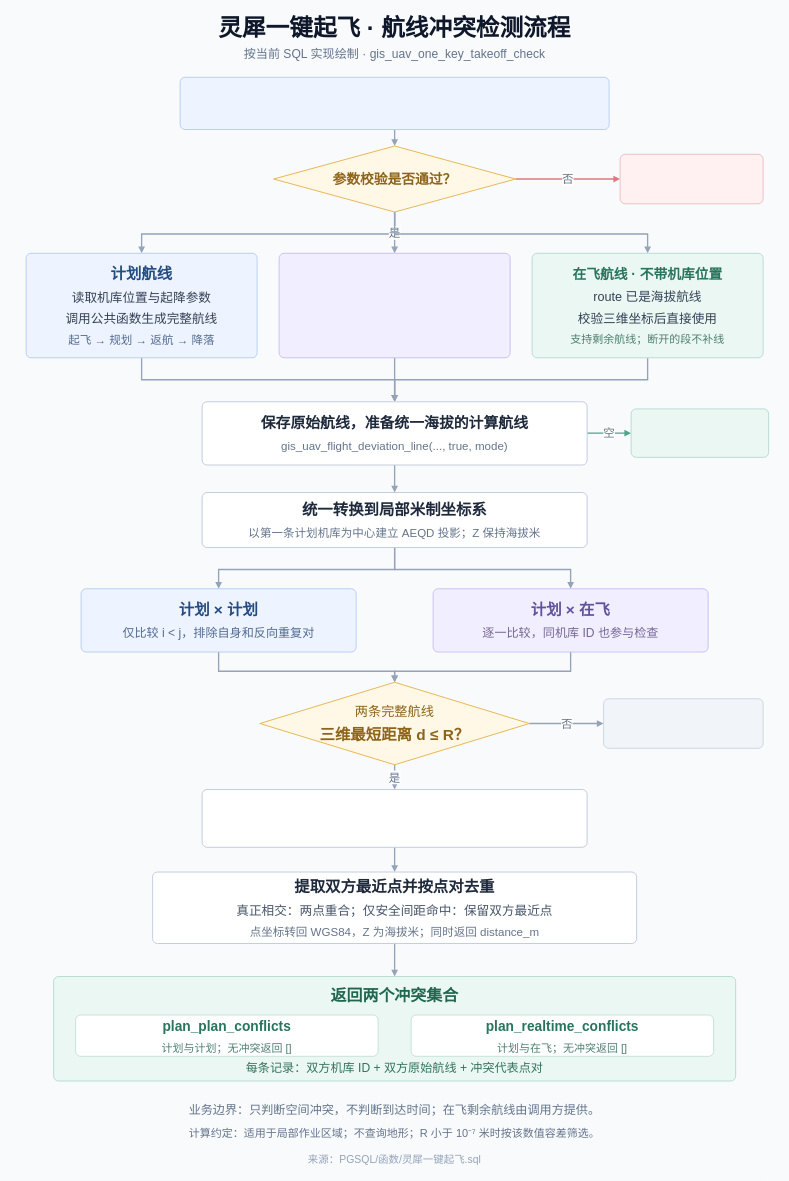
Some shapes in this 789 by 1181 pixel diagram are drawn without their labels. Each missing label, with the box of its shape:
仅拆分命中的航线，逐航段复查 ST_DumpSegments → 航段对三维距离 ≤ R: (201, 789, 587, 847)
在飞航线 · 带机库位置 读取机库位置与起降参数 调用公共函数生成完整航线 与计划航线采用相同处理方式: (278, 253, 510, 358)
抛出参数异常 航线错误标明集合与下标: (619, 154, 763, 204)
计划集合为空 直接返回两个空数组: (630, 408, 769, 458)
跳过该航线对 继续检查其他组合: (603, 698, 763, 748)
输入：计划航线集合 + 在飞航线集合 + 安全间距 R JSON 数组；R 的单位为米，默认 0: (179, 77, 609, 130)
